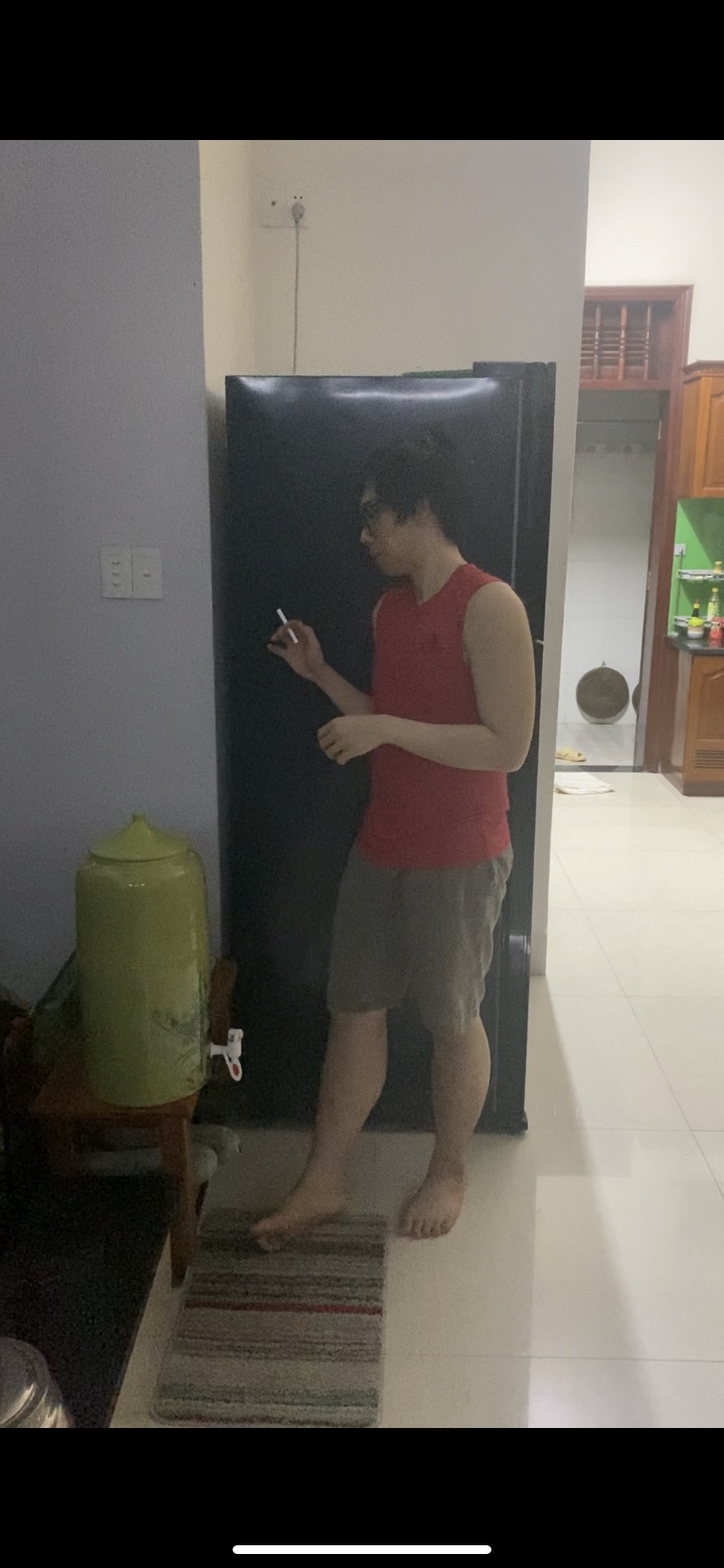cigarette: (268, 602, 290, 626)
person: (245, 417, 529, 1292)
